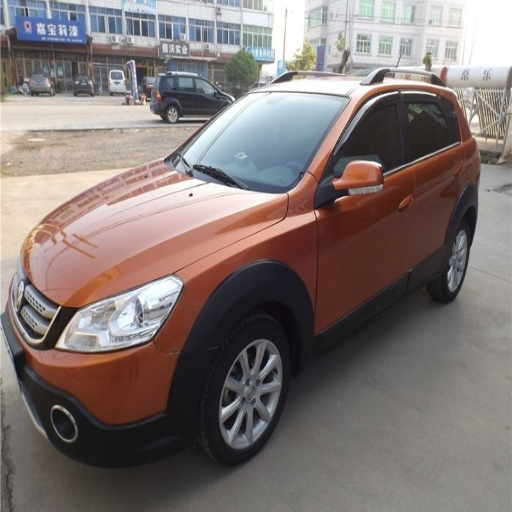front_bumper: (2, 283, 202, 466)
front_glass: (170, 91, 348, 191)
front_left_door: (319, 88, 414, 333)
